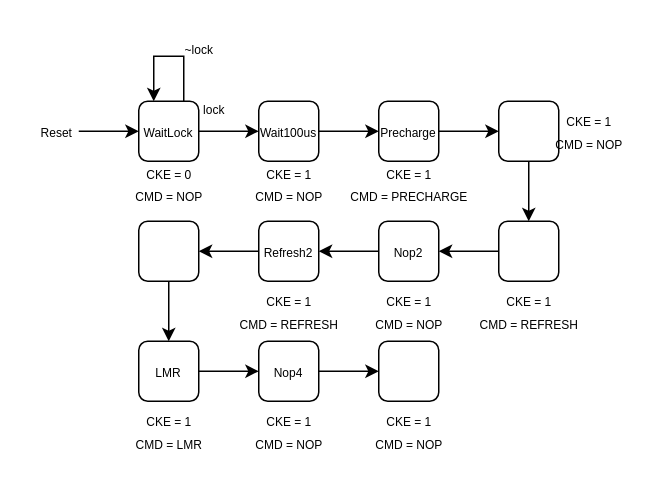
This 659x486 diagram has some shape labels left out. The centre of each missing label's shape, as x and y in pixels:
"Idle" belongs at point 408,370.
"Nop1" belongs at point 528,130.
"Nop3" belongs at point 168,250.
"Refresh1" belongs at point 528,250.
